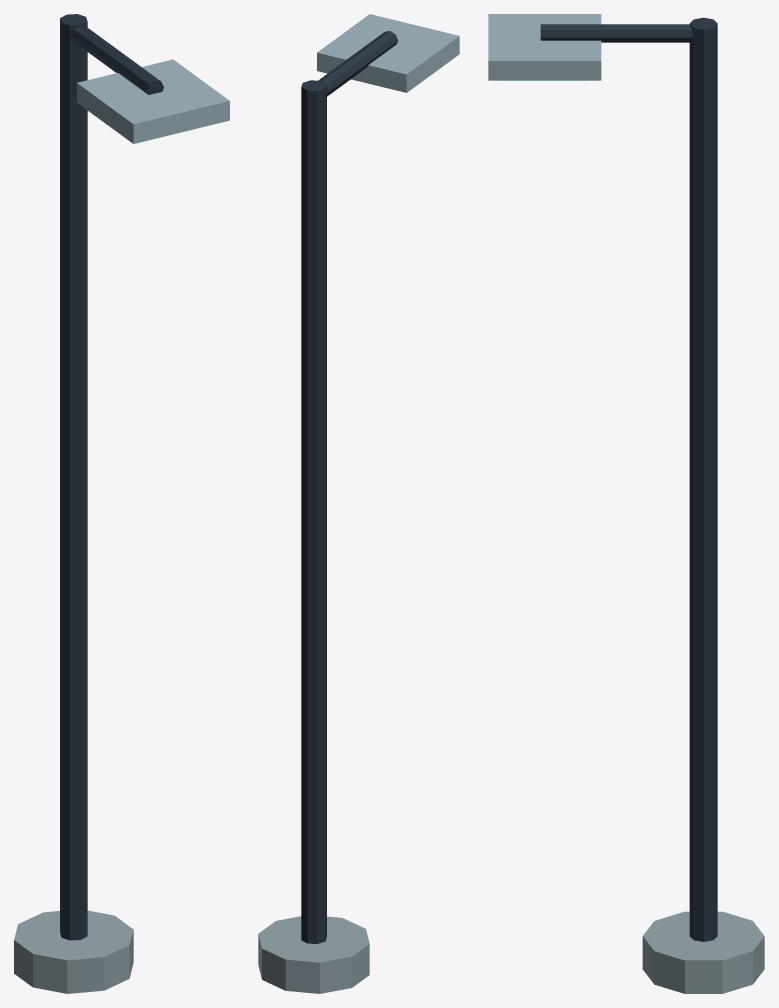
File: Lamp.fbx
3 views of the same model, side by side, from view 1: azimuth 30°, elevation 25°; view 2: azimuth 150°, elevation 25°; view 3: azimuth 270°, elevation 25° (orthographic). The views are drawn at different scales.
Visible parts, largest first — view 1: Lamp_RenderMesh; view 2: Lamp_RenderMesh; view 3: Lamp_RenderMesh.
Boxes of the visible parts, x1,y1,x2,y2 form: Lamp_RenderMesh: (14,14,229,993); Lamp_RenderMesh: (258,14,459,993); Lamp_RenderMesh: (488,14,764,993).
Bounding box in the file's own units: 0.5326 × 4.8 × 1.27.
